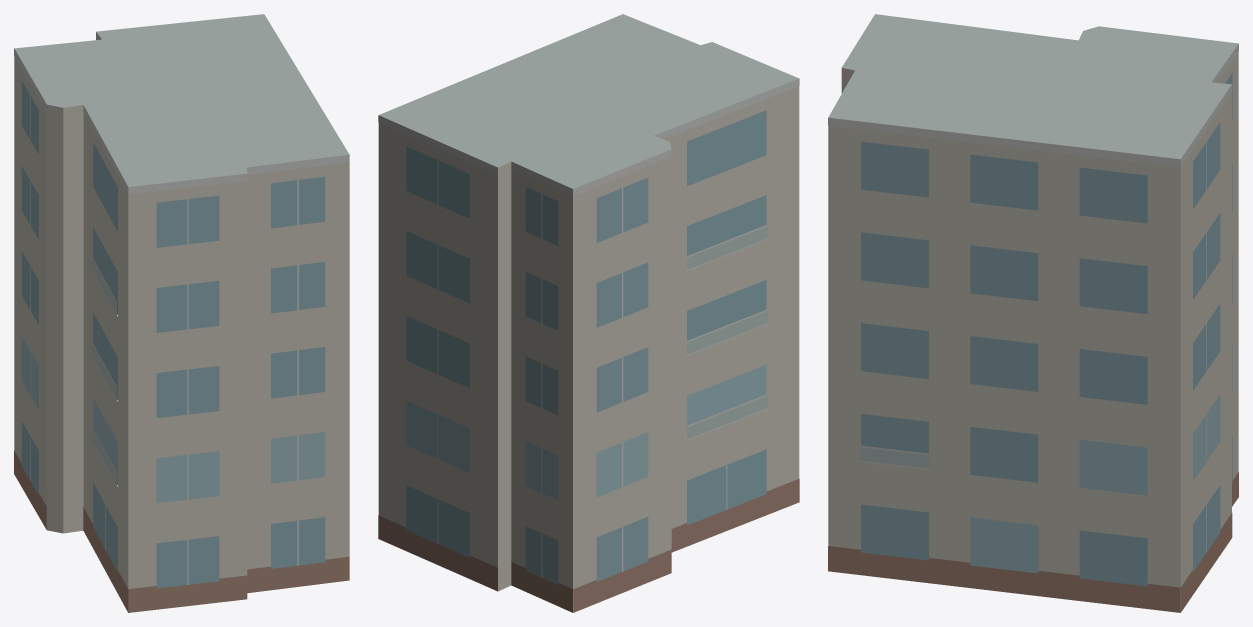
File: survey-upis-32490604.glb
3 renders of one model, left to right at view 1: azimuth 30°, elevation 25°; view 2: azimuth 150°, elevation 25°; view 3: azimuth 270°, elevation 25°, orthographic. The views are drawn at different scales.
Parts seen in each view (by area): view 1: survey-upis-32490604.tmp; view 2: survey-upis-32490604.tmp; view 3: survey-upis-32490604.tmp.
Part boxes in pixels (x1=…): survey-upis-32490604.tmp: x1=14, y1=14, x2=349, y2=612; survey-upis-32490604.tmp: x1=378, y1=14, x2=799, y2=612; survey-upis-32490604.tmp: x1=828, y1=14, x2=1238, y2=612.
Size of the model in its own units: 9.52 by 13.85 by 11.37.
